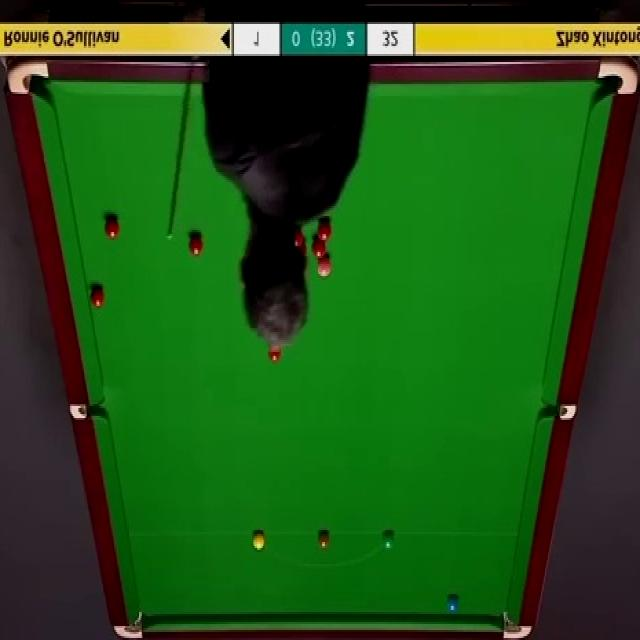blue-ball: (448, 596, 462, 613)
brown-ball: (318, 530, 331, 550)
green-ball: (381, 529, 395, 550)
pink-ball: (316, 256, 332, 281)
red-ball: (90, 284, 107, 308), (188, 235, 205, 259), (104, 216, 120, 240), (310, 238, 326, 260), (317, 220, 332, 243), (267, 347, 282, 363), (294, 227, 304, 249)
yellow-ball: (251, 530, 266, 551)
